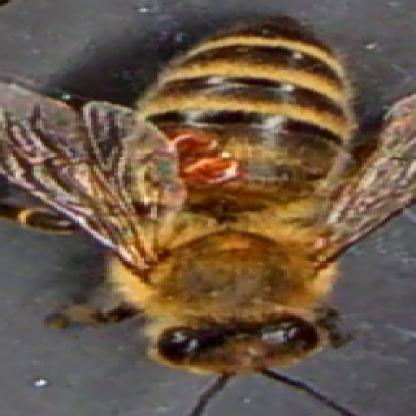bee: (107, 16, 342, 376)
vaoora: (150, 131, 214, 151), (185, 159, 237, 182)
